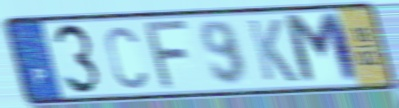3: (49, 21, 103, 97)
9: (199, 18, 249, 88)
C: (103, 23, 149, 91)
F: (143, 17, 193, 92)
K: (244, 17, 301, 84)
M: (280, 10, 365, 88)
